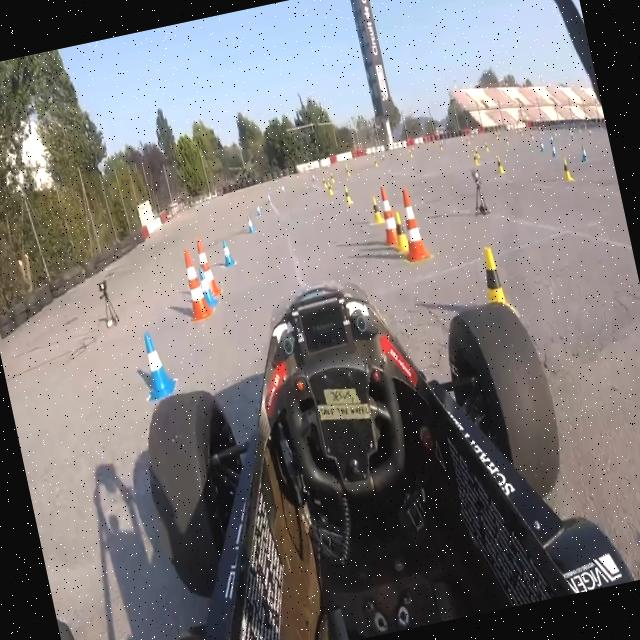blue_cone: (135, 329, 178, 402), (196, 264, 217, 309), (220, 238, 236, 268), (243, 214, 256, 234), (578, 144, 590, 162), (548, 142, 558, 158), (254, 202, 263, 218), (538, 140, 545, 152), (265, 192, 272, 204), (280, 182, 284, 192)
large_orange_cone: (173, 247, 214, 323), (393, 189, 431, 263), (374, 182, 402, 251), (196, 238, 222, 300)
yellow_cone: (472, 242, 520, 326), (389, 212, 412, 254), (558, 154, 574, 183), (368, 197, 384, 224), (492, 152, 506, 176), (342, 184, 354, 206), (320, 172, 328, 190), (344, 162, 352, 176), (326, 180, 333, 195), (472, 150, 478, 166), (329, 171, 335, 184), (484, 140, 489, 152)
